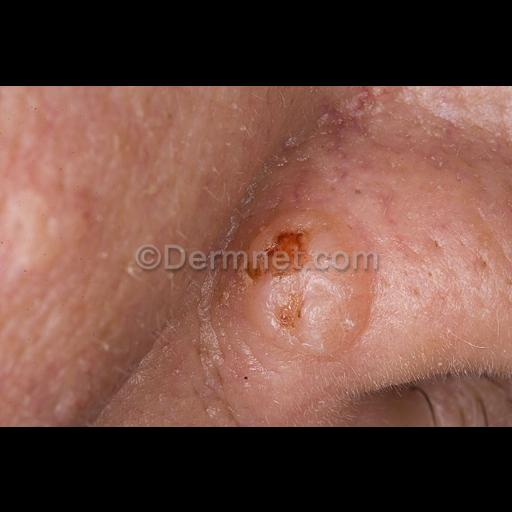Skin_Lesion: (238, 212, 386, 356), (244, 263, 264, 283)
